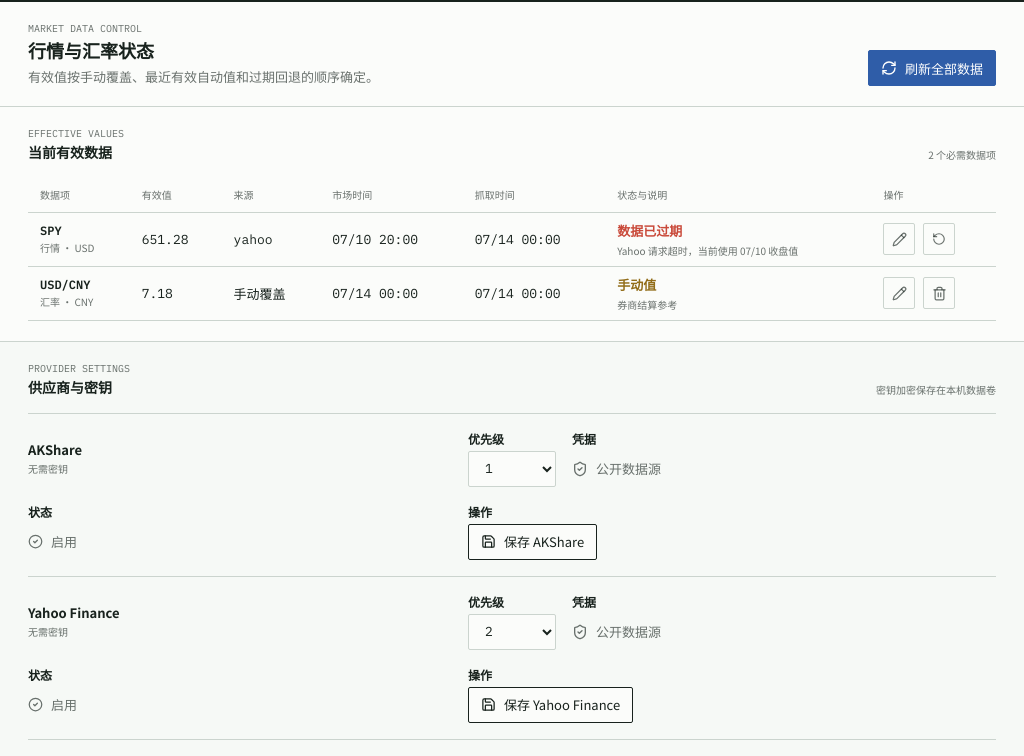
opens the correct override drawer from the status table
Step 1. Click the button named "覆盖 USD/CNY" → (899, 293), box top-left (883, 277), bottom-right (915, 309)
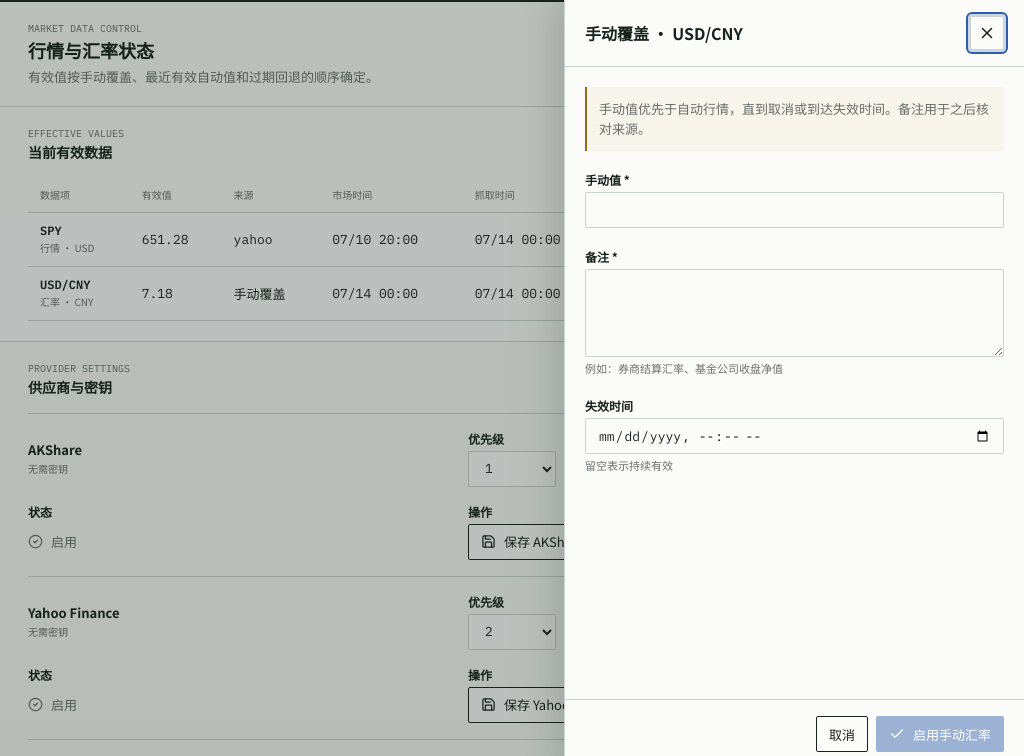
Expected: the heading "手动覆盖 · USD/CNY" is shown, top-left (585, 21), bottom-right (743, 45)
